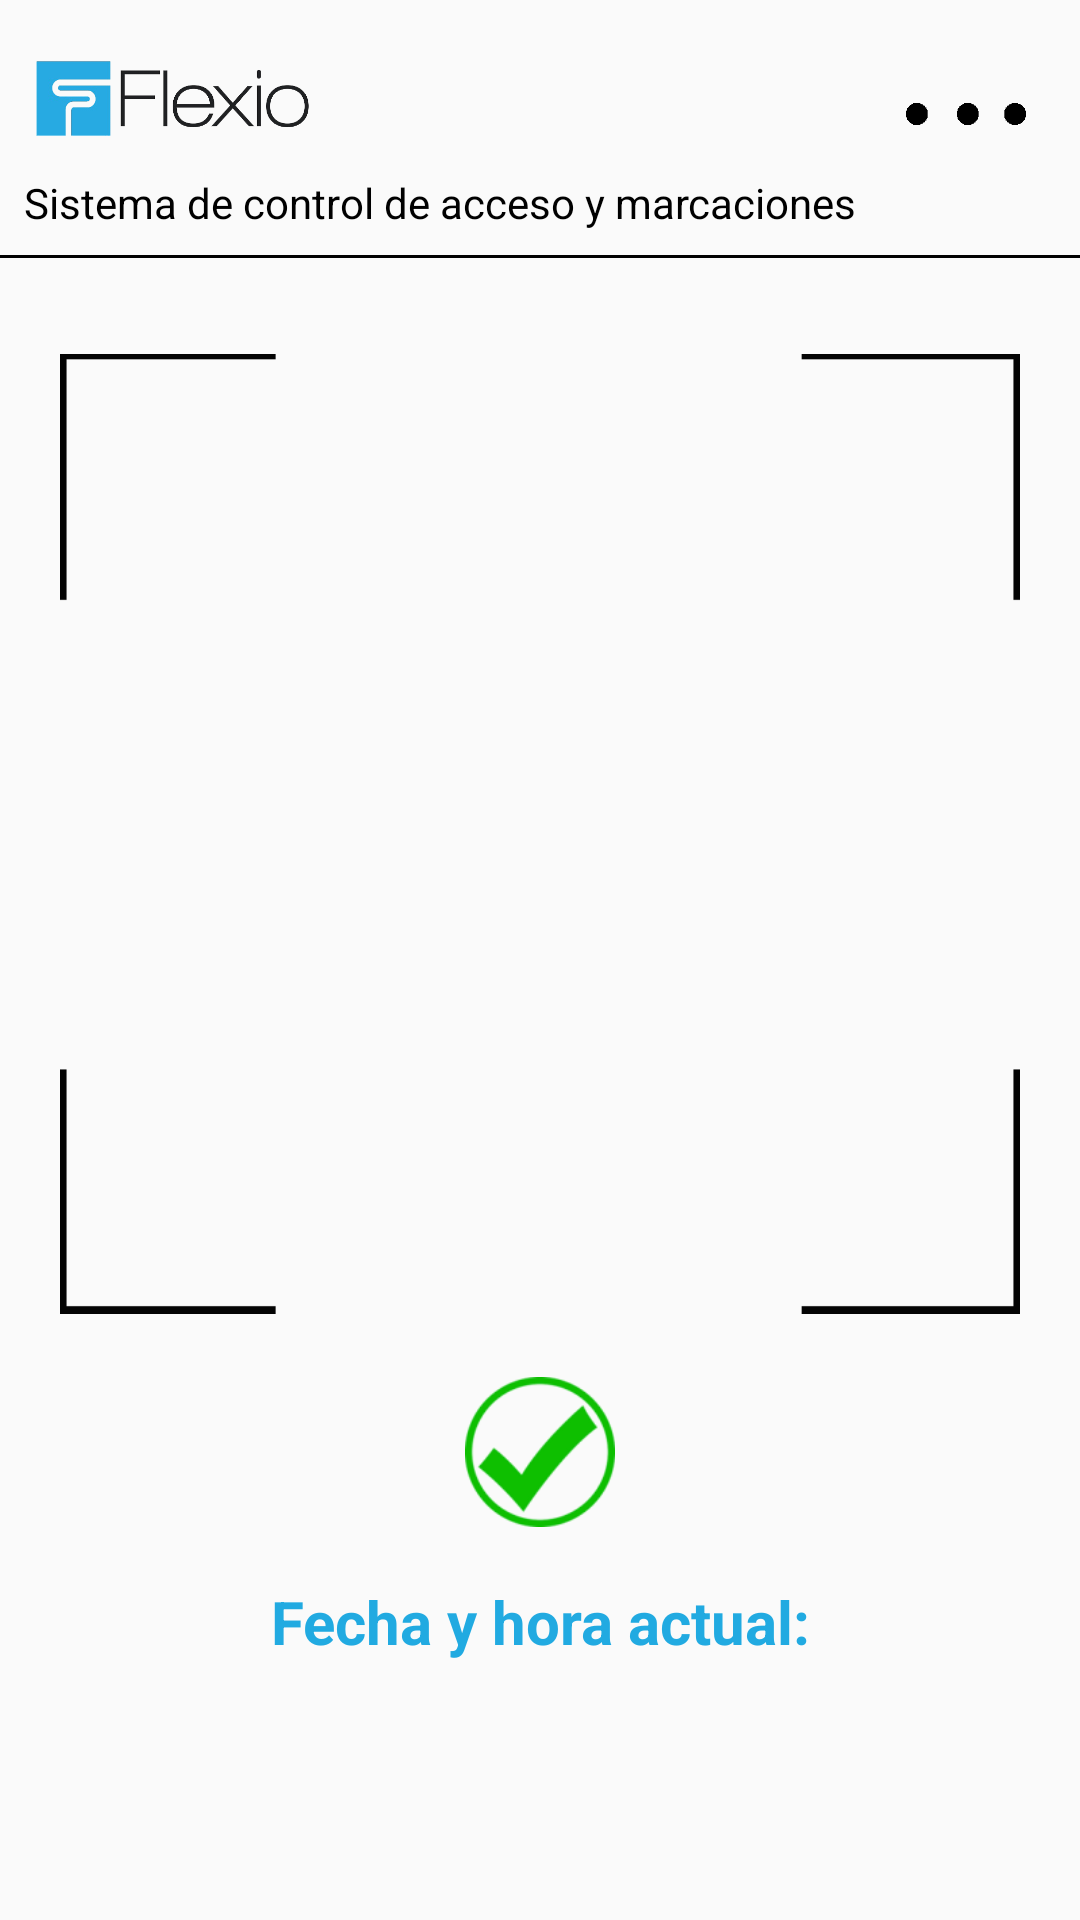

Named icons in this screenshot (1080x1920) and their centers, point (x, y):
confirm: point (540, 1452)
menu: point (966, 114)
